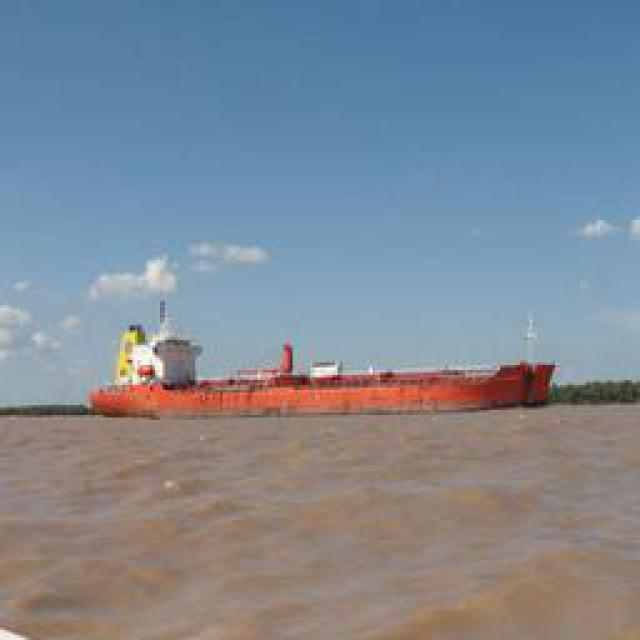Ship: (85, 311, 560, 419)
